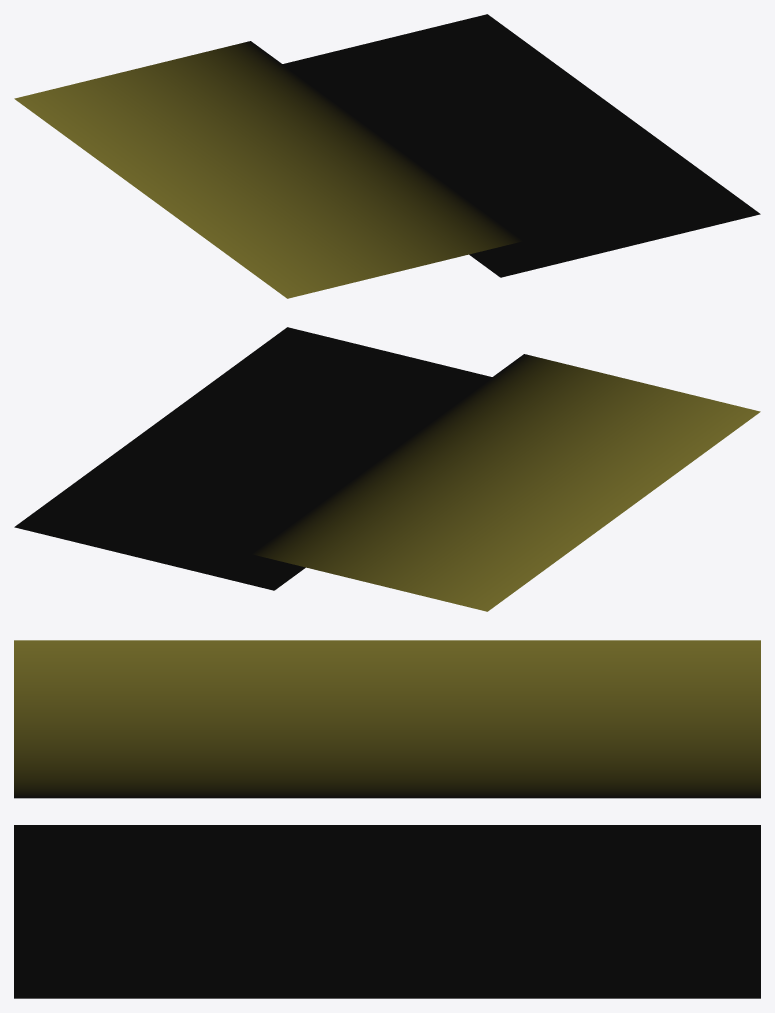
The picture shows the model from 3 angles, top to bottom: view 1: azimuth 30°, elevation 25°; view 2: azimuth 150°, elevation 25°; view 3: azimuth 270°, elevation 25°; orthographic projection. The views are drawn at different scales.
Bounding box in the file's own units: 1 × 0.0625 × 1.
Materials: 1 (1 with a texture image).
